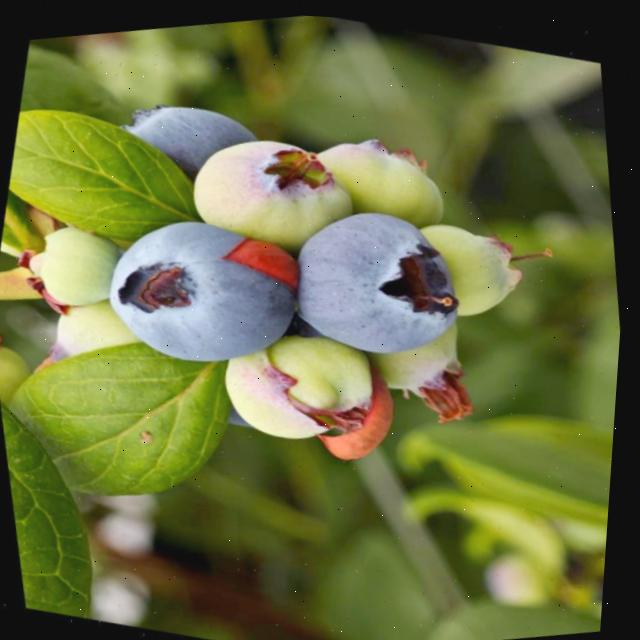RipeBlueBerry: (75, 181, 321, 397), (267, 171, 494, 381)
UnripeBlueBerry: (198, 303, 403, 475), (168, 101, 369, 271)
